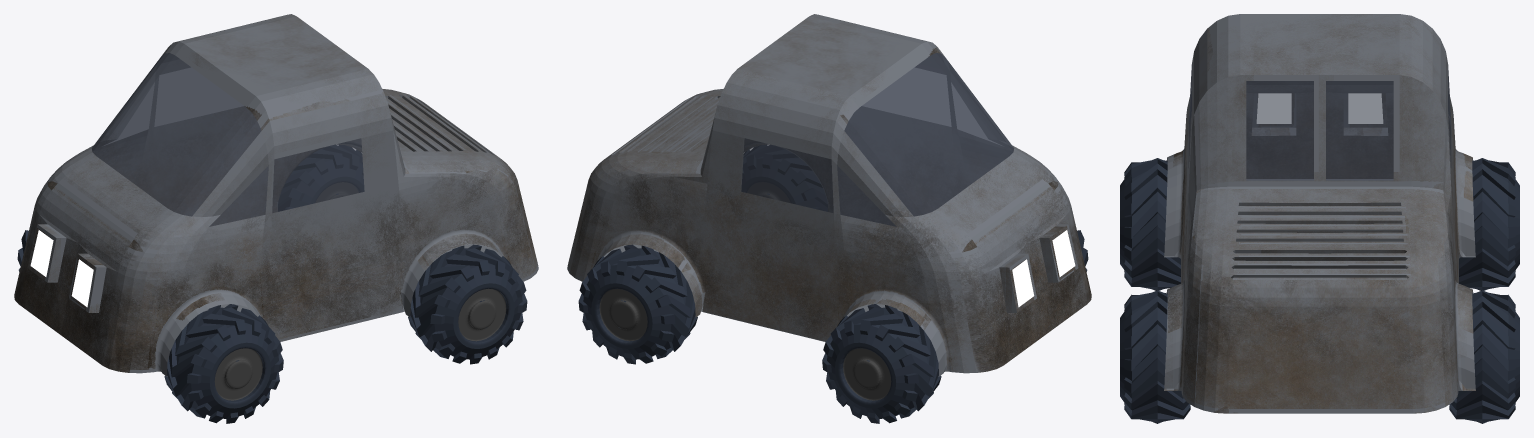
Rendered from CARMIN.glb.
3 views of the same model, side by side, from view 1: azimuth 30°, elevation 25°; view 2: azimuth 150°, elevation 25°; view 3: azimuth 270°, elevation 25° (orthographic). The views are drawn at different scales.
Visible parts, largest first — view 1: Cube.005; view 2: Cube.005; view 3: Cube.005.
Boxes of the visible parts, box(x1,y1,x2,y2) form: Cube.005: box(14, 14, 538, 423); Cube.005: box(567, 14, 1091, 423); Cube.005: box(1120, 14, 1519, 423).
Bounding box in the file's own units: 4.02 × 2.46 × 2.88.
5 materials, 1 textured.
